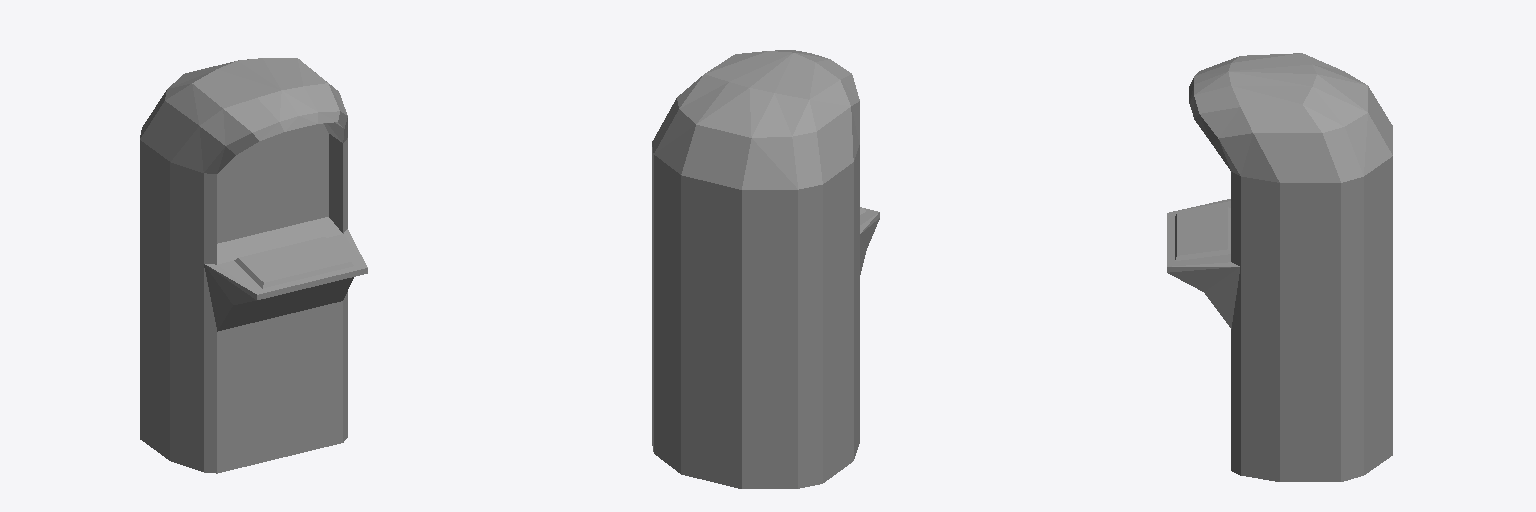
3 views of the same model, side by side, from view 1: azimuth 30°, elevation 25°; view 2: azimuth 150°, elevation 25°; view 3: azimuth 270°, elevation 25° (orthographic).
Parts seen in each view (by area): view 1: vsn_mesh_1_body_mesh_1_body_com_bm_pc02a_mat; view 2: vsn_mesh_1_body_mesh_1_body_com_bm_pc02a_mat; view 3: vsn_mesh_1_body_mesh_1_body_com_bm_pc02a_mat.
Part boxes in pixels (left/top/right/bottom): vsn_mesh_1_body_mesh_1_body_com_bm_pc02a_mat: left=140, top=58, right=367, bottom=473; vsn_mesh_1_body_mesh_1_body_com_bm_pc02a_mat: left=652, top=50, right=879, bottom=488; vsn_mesh_1_body_mesh_1_body_com_bm_pc02a_mat: left=1167, top=53, right=1392, bottom=481.
Size of the model in its own units: 1.25 by 2.57 by 1.43.